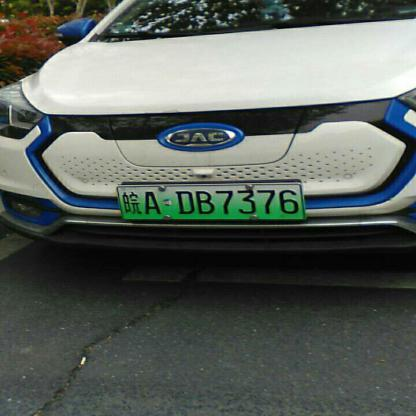lp: (115, 185, 304, 220)
